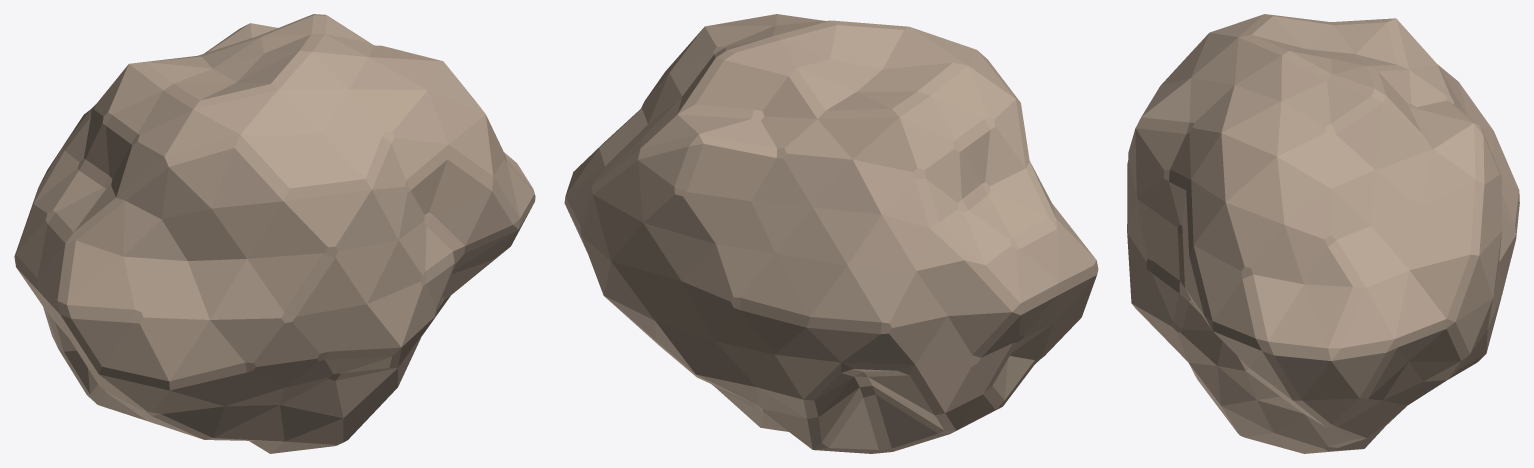
Rendered from Asteroid_L_C.fbx.
3 renders of one model, left to right at view 1: azimuth 30°, elevation 25°; view 2: azimuth 150°, elevation 25°; view 3: azimuth 270°, elevation 25°, orthographic.
Visible parts, largest first — view 1: Asteroid_L_C; view 2: Asteroid_L_C; view 3: Asteroid_L_C.
Part boxes in pixels (left/top/right/bottom): Asteroid_L_C: left=14, top=14, right=535, bottom=453; Asteroid_L_C: left=564, top=14, right=1098, bottom=453; Asteroid_L_C: left=1127, top=14, right=1519, bottom=453.
Size of the model in its own units: 514 by 393 by 360.
